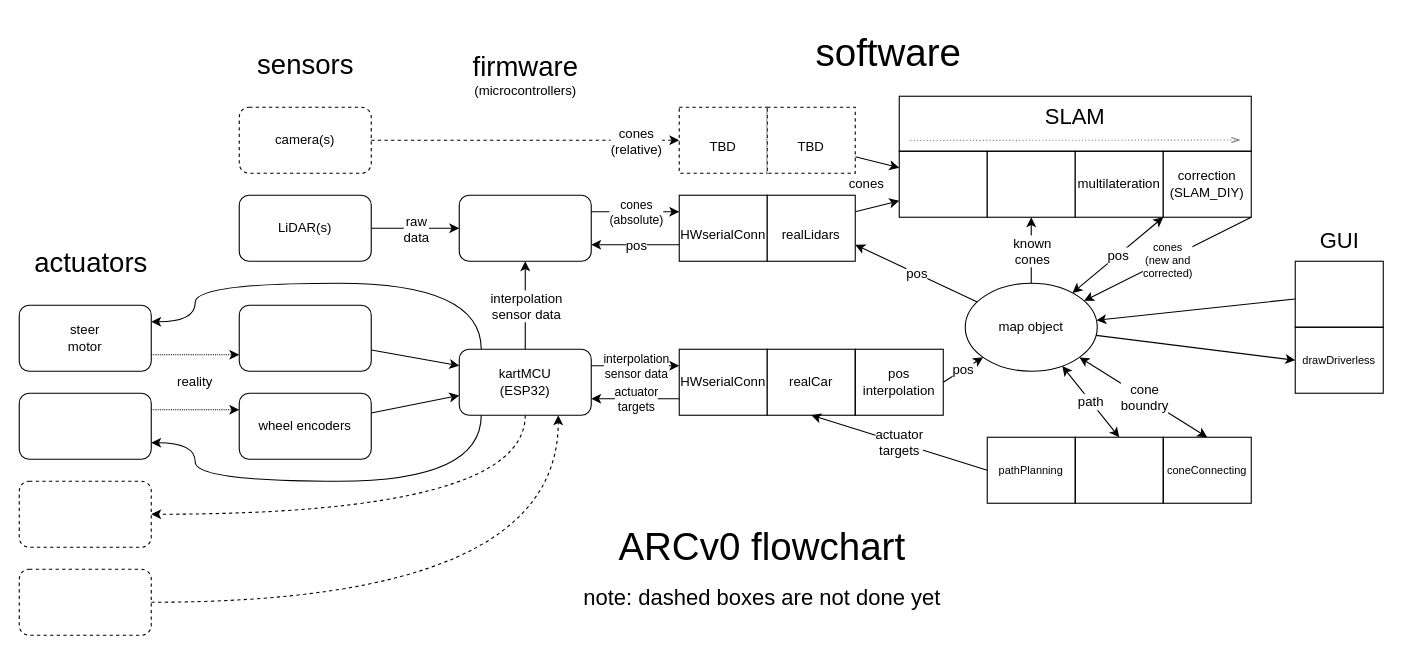
The diagram is 1403 pixels wide and 655 high, and some of its shapes have lost their labels. The shapes that lost their labels are listed below. From the top down, each one's centre as x and y in pixels, then its label:
At [942,183]: "cone buffer".
At [1030,183]: "cone fusion (SLAM_DIY)".
At [524,227]: "ESP32(s)".
At [1338,293]: "pygameUI".
At [304,337]: "steer encoder".
At [84,425]: "throttle".
At [1118,469]: "pathFinding".
At [84,513]: "brakes".
At [84,601]: "optical flow".
